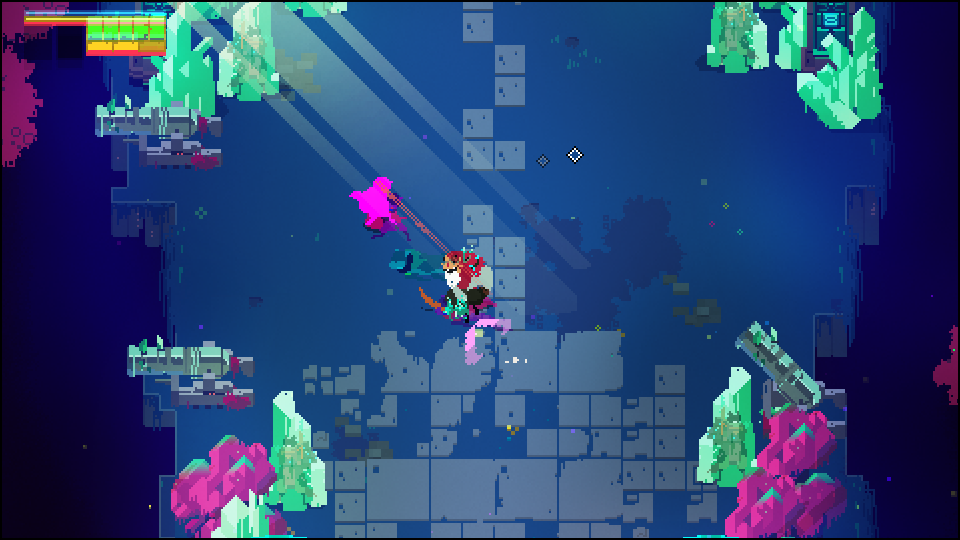hanged_man: (416, 238, 501, 325)
player: (348, 173, 401, 228)
